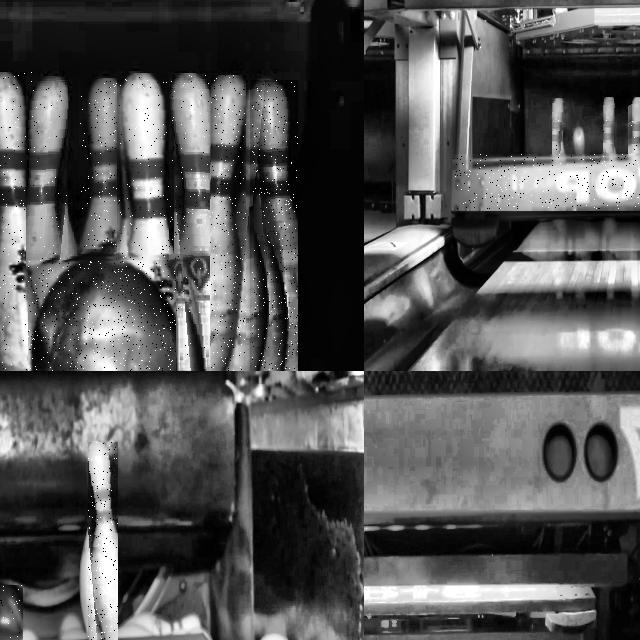bowling-ball: (28, 260, 176, 371), (0, 586, 22, 638)
bowling-pins: (169, 73, 225, 371), (252, 81, 297, 371), (118, 73, 174, 306), (211, 76, 245, 371), (0, 73, 32, 371), (26, 77, 68, 287), (80, 79, 116, 251), (88, 442, 117, 640), (603, 98, 614, 154), (552, 99, 562, 157), (631, 98, 640, 156)
sweep board: (452, 163, 640, 209)
